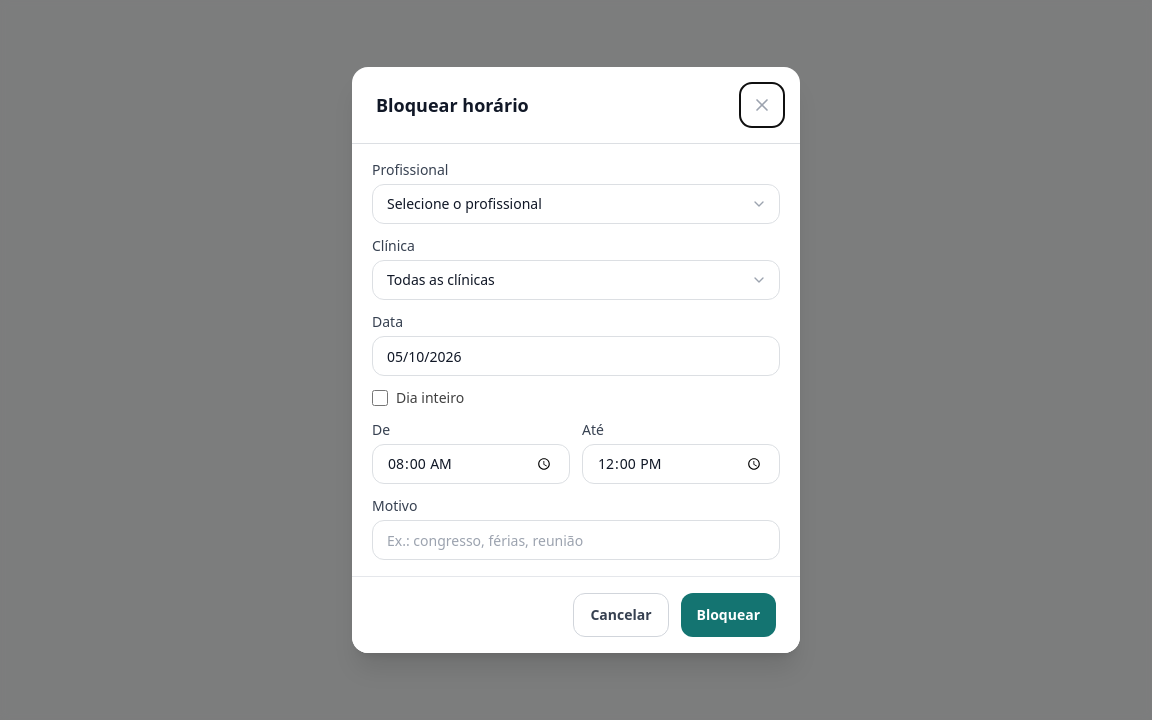
Scenario: ScheduleBlockModal — clínica do bloqueio › sem Administração, clínica sem profissional continua exigindo o profissional
Select "Clínica Centro" in the dropdown labelled "Clínica" at {"x": 576, "y": 280}, box 372,260 -> 780,300
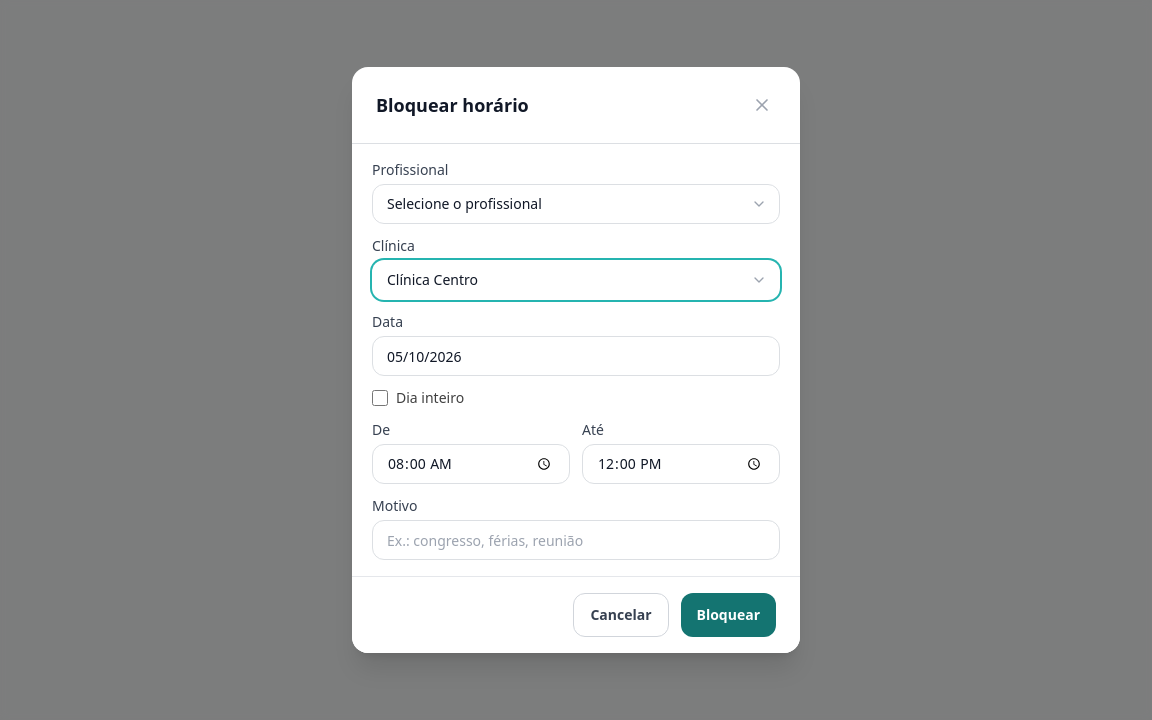
Click the button "Bloquear" at {"x": 728, "y": 615}, box 680,593 -> 776,637
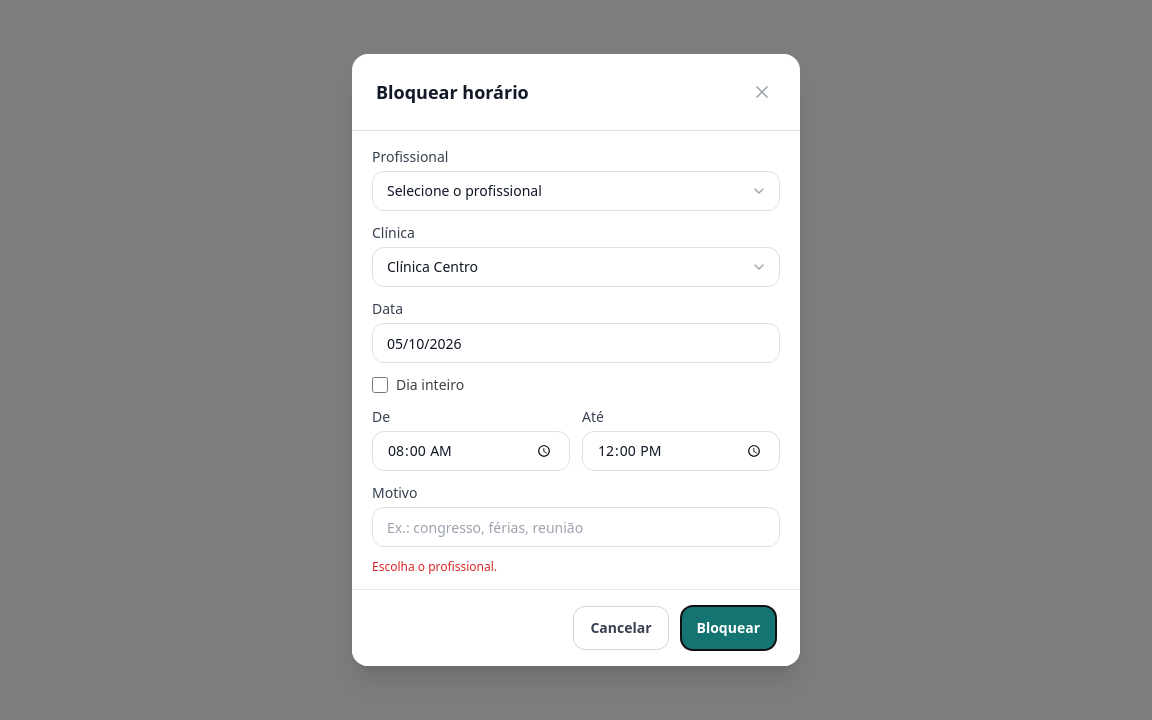
Expected: the message reads "Escolha o profissional.", 372,558 -> 497,575
